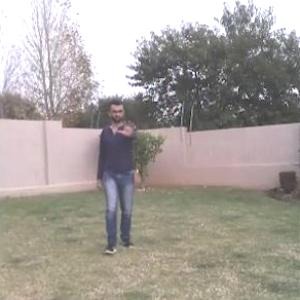follow_hand: (116, 116, 139, 138)
